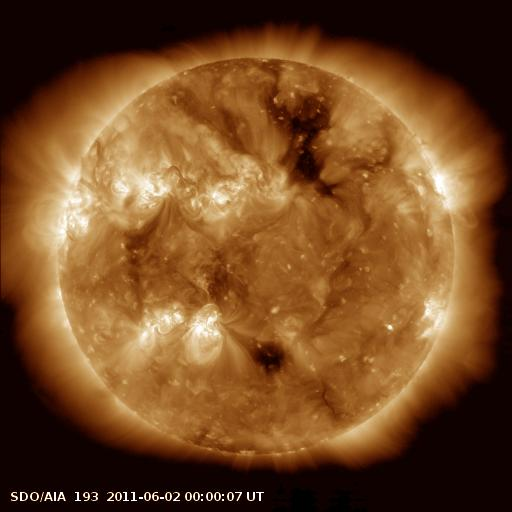coronal_hole: (264, 87, 342, 197), (242, 336, 294, 381)
